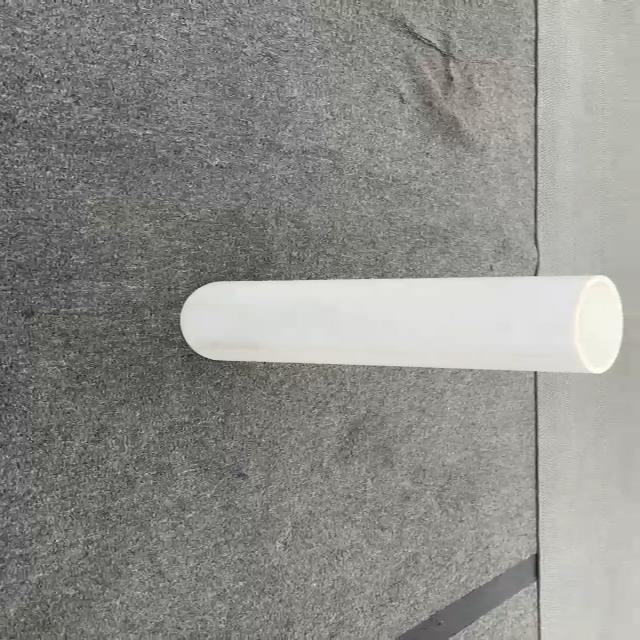coral: (178, 273, 624, 375)
